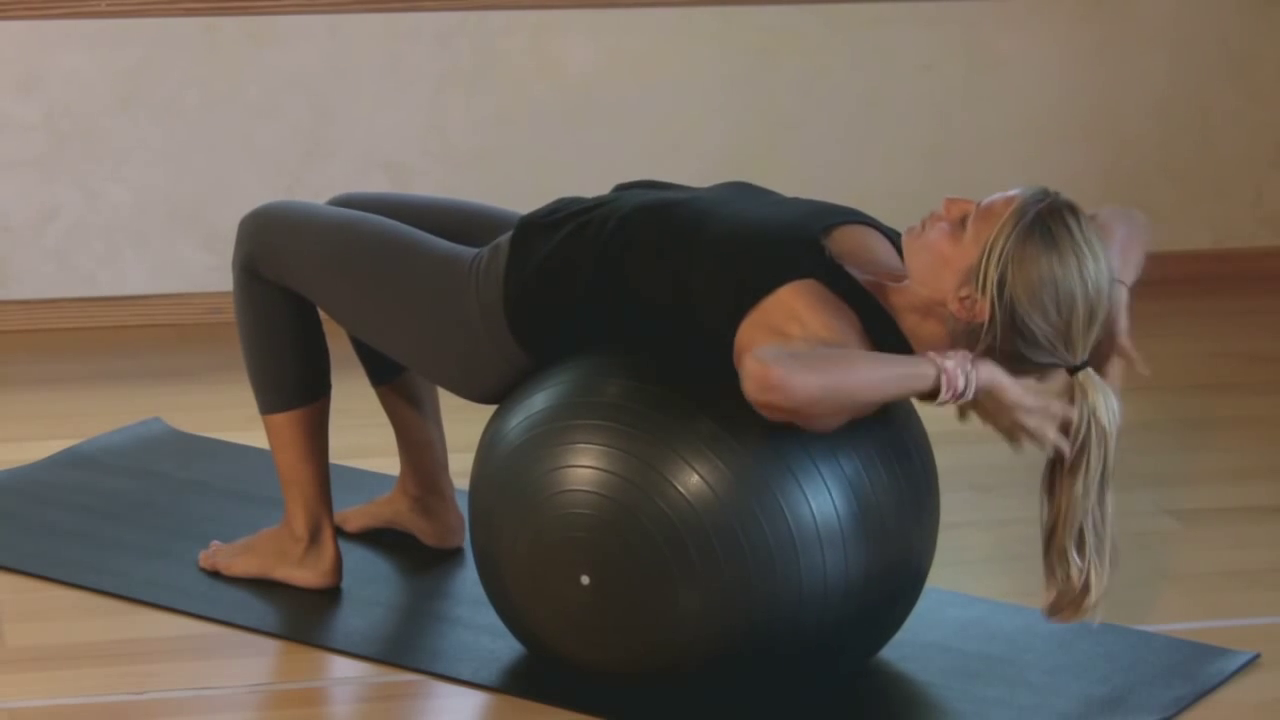yogaball: (464, 338, 952, 709)
